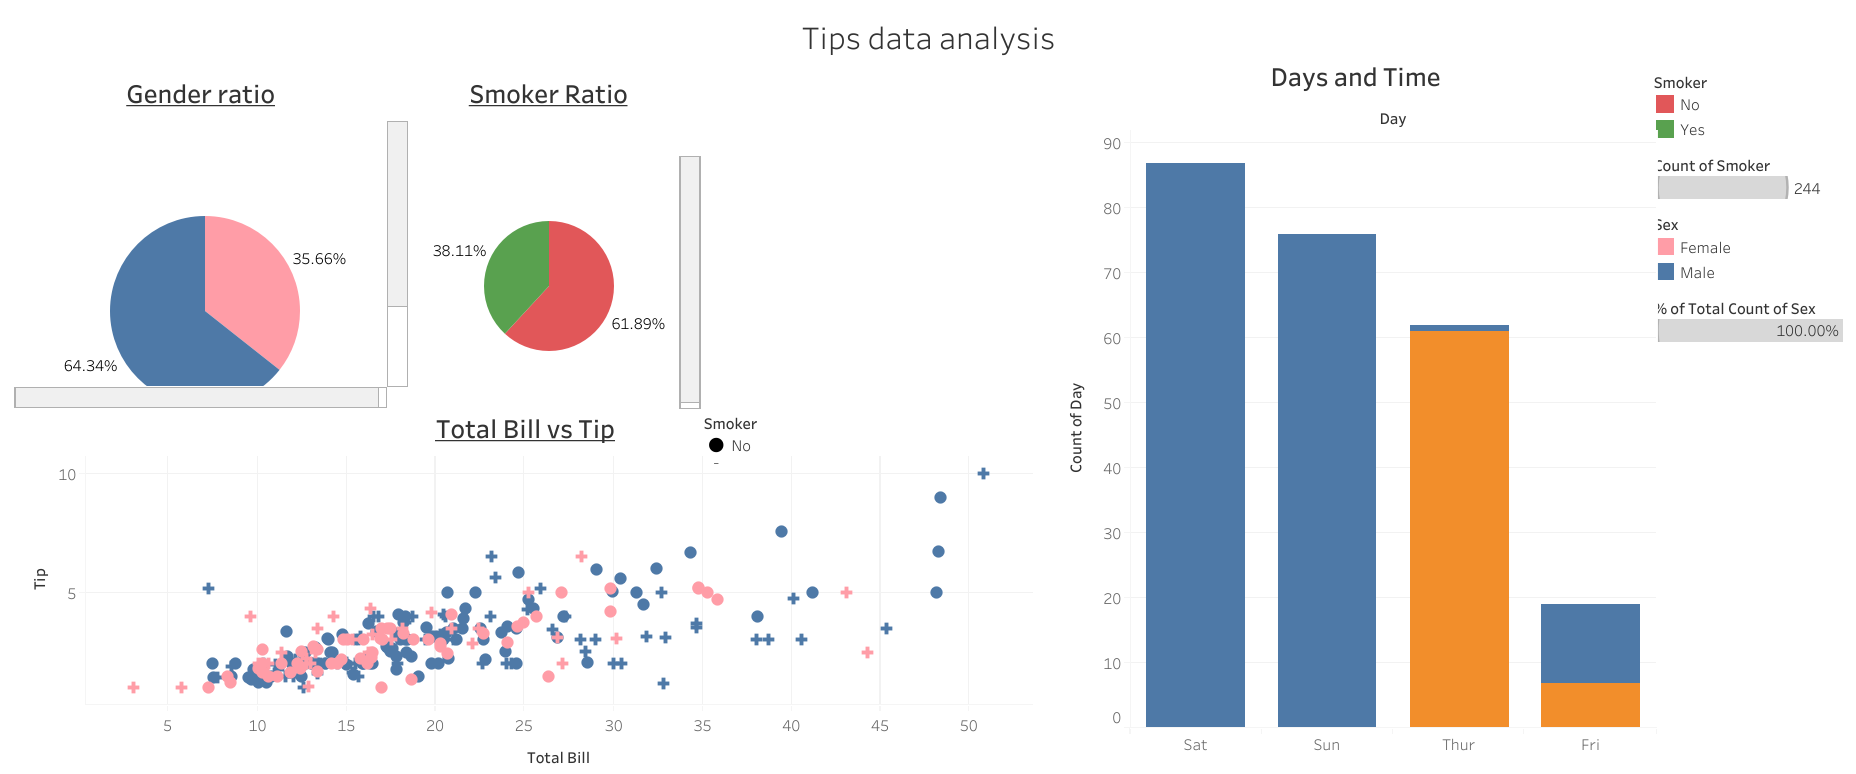

The page's visual inventory and layout, read from the dashboard file:
{"tool":"tableau","page":{"name":"Dashboard 1","canvas":[1000,1000],"units":"permille","ordinal":0},"visuals":[{"type":"worksheet","box":[0,0,1000,1000]},{"type":"worksheet","param":"vert","box":[4.9,9.5,990.2,980.9]},{"type":"worksheet","box":[4.9,9.5,990.2,59.6]},{"type":"worksheet","title":"DaysTime","mark":"Automatic","rows":["day"],"cols":["day"],"box":[567.9,66.1,324.1,908.2]},{"type":"worksheet","param":"vert","box":[4.9,69.1,990.2,921.3]},{"type":"worksheet","param":"vert","box":[4.9,69.1,990.2,921.3]},{"type":"worksheet","param":"vert","box":[4.9,69.1,990.2,921.3]},{"type":"worksheet","param":"horz","box":[4.9,69.1,990.2,921.3]},{"type":"worksheet","box":[4.9,69.1,891.9,921.3]},{"type":"worksheet","title":"gender","mark":"Pie","box":[4.9,69.1,220.1,460.5]},{"type":"worksheet","title":"smoker","mark":"Pie","box":[225,69.1,337.6,460.4]},{"type":"worksheet","box":[562.6,69.1,334.2,921.3]},{"type":"worksheet","param":"vert","box":[896.8,69.1,98.3,921.3]},{"type":"worksheet","title":"smoker","mark":"Pie","param":"[federated.1pkh4uf1ipi8l811vt8em16s0s6z].[none:smoker:nk]","box":[896.8,69.1,98.3,85.8]},{"type":"worksheet","title":"smoker","mark":"Pie","param":"[federated.1pkh4uf1ipi8l811vt8em16s0s6z].[cnt:smoker:qk]","box":[896.8,155,98.3,60.8]},{"type":"worksheet","title":"gender","mark":"Pie","param":"[federated.1pkh4uf1ipi8l811vt8em16s0s6z].[none:sex:nk]","box":[896.8,215.8,98.3,85.8]},{"type":"worksheet","title":"gender","mark":"Pie","param":"[federated.1pkh4uf1ipi8l811vt8em16s0s6z].[pcto:cnt:sex:qk]","box":[896.8,301.6,98.3,60.8]},{"type":"worksheet","title":"TotalBill_Tip","mark":"Automatic","rows":["tip"],"cols":["total_bill"],"box":[10.3,519.6,545.6,481.5]},{"type":"worksheet","title":"TotalBill_Tip","mark":"Automatic","rows":["tip"],"cols":["total_bill"],"param":"[federated.1pkh4uf1ipi8l811vt8em16s0s6z].[none:smoker:nk]","box":[378.4,526.8,84.2,71.5]},{"type":"worksheet","box":[4.9,529.7,220.1,460.8]}]}

Visuals, with their boxes on the dashboard's canvas, which has no fixed pixel size, in thousandths of its width and height (x1, y1, x2, y2). These are canvas units, not pixel positions in the 1856x774 screenshot, which may show the page scaled, cropped or inside an application window:
worksheet: [x1=0, y1=0, x2=1000, y2=1000]
worksheet: [x1=5, y1=10, x2=995, y2=990]
worksheet: [x1=5, y1=10, x2=995, y2=69]
"DaysTime" worksheet: [x1=568, y1=66, x2=892, y2=974]
worksheet: [x1=5, y1=69, x2=995, y2=990]
worksheet: [x1=5, y1=69, x2=995, y2=990]
worksheet: [x1=5, y1=69, x2=995, y2=990]
worksheet: [x1=5, y1=69, x2=995, y2=990]
worksheet: [x1=5, y1=69, x2=897, y2=990]
"gender" worksheet (Pie marks): [x1=5, y1=69, x2=225, y2=530]
"smoker" worksheet (Pie marks): [x1=225, y1=69, x2=563, y2=530]
worksheet: [x1=563, y1=69, x2=897, y2=990]
worksheet: [x1=897, y1=69, x2=995, y2=990]
"smoker" worksheet (Pie marks): [x1=897, y1=69, x2=995, y2=155]
"smoker" worksheet (Pie marks): [x1=897, y1=155, x2=995, y2=216]
"gender" worksheet (Pie marks): [x1=897, y1=216, x2=995, y2=302]
"gender" worksheet (Pie marks): [x1=897, y1=302, x2=995, y2=362]
"TotalBill_Tip" worksheet: [x1=10, y1=520, x2=556, y2=1001]
"TotalBill_Tip" worksheet: [x1=378, y1=527, x2=463, y2=598]
worksheet: [x1=5, y1=530, x2=225, y2=990]
